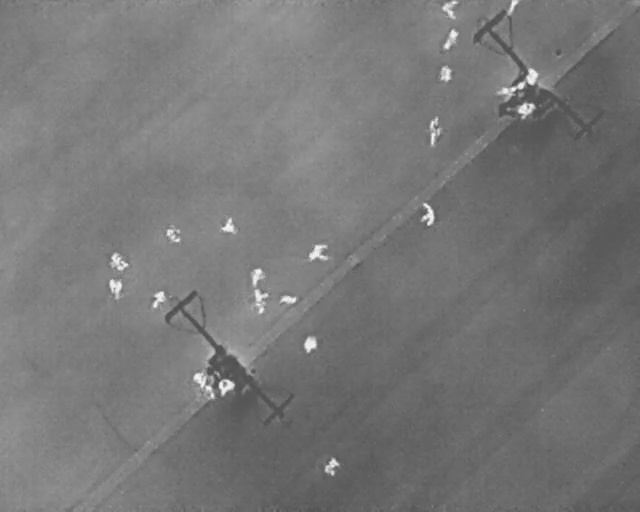Person: (496, 76, 528, 100), (439, 26, 462, 53), (429, 114, 443, 146), (108, 251, 129, 272), (149, 288, 168, 311), (419, 201, 435, 228), (307, 244, 331, 261), (252, 290, 269, 314), (442, 0, 460, 21), (517, 101, 535, 122), (163, 225, 182, 244), (108, 277, 123, 300), (217, 379, 234, 397), (219, 216, 236, 233), (325, 458, 341, 476), (191, 372, 208, 388), (304, 335, 318, 354), (439, 65, 453, 83), (527, 66, 539, 86), (251, 268, 264, 286), (505, 0, 519, 16), (203, 383, 216, 399), (280, 295, 299, 305)
